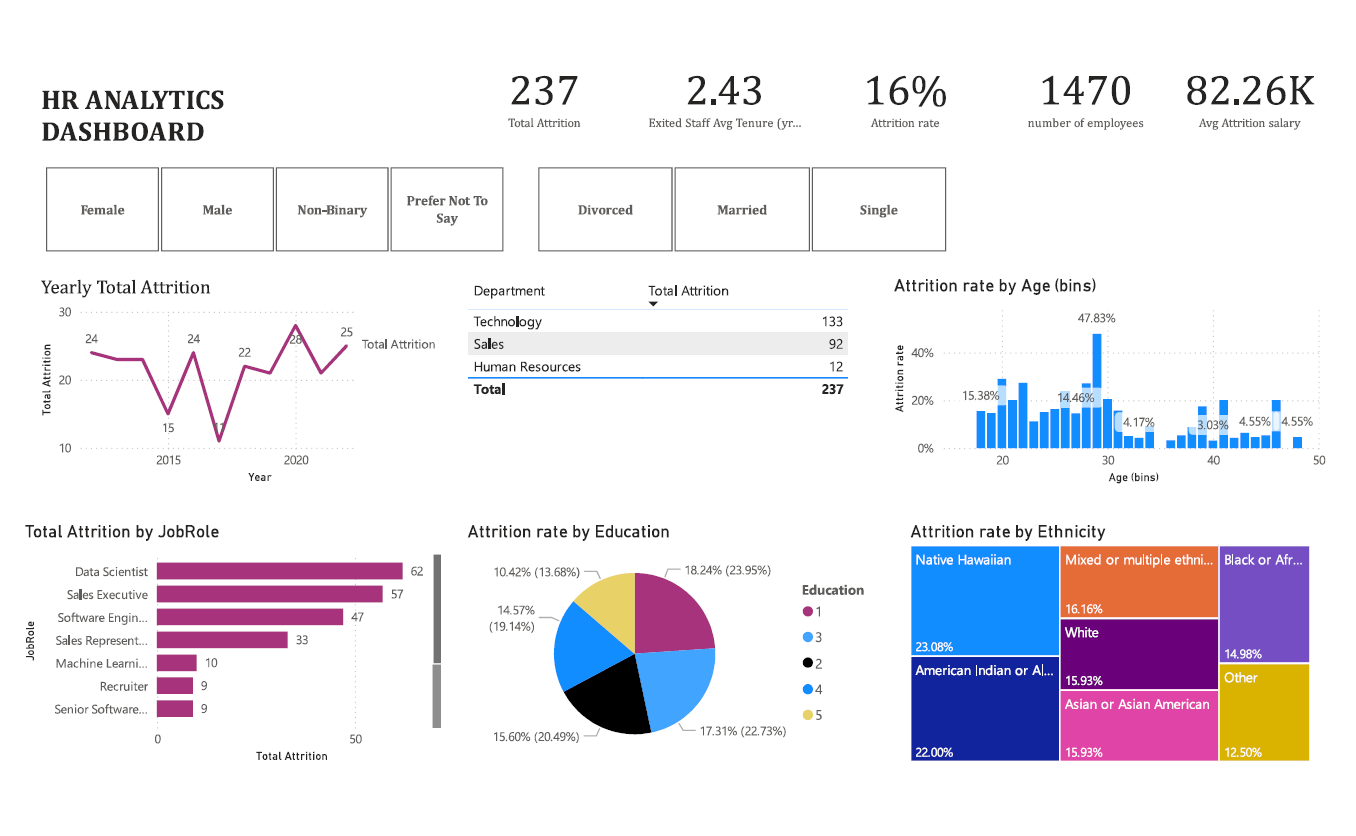

The page's visual inventory and layout, read from the dashboard file:
{"tool":"powerbi","page":{"name":"Page 1","canvas":[1280,720],"ordinal":0},"visuals":[{"type":"card","fields":{"Values":["Employee.number of employees"]},"box":[960,0,160,128],"z":1000},{"type":"card","fields":{"Values":["Employee.Total Attrition"]},"box":[432,0,160,128],"z":2000},{"type":"clusteredBarChart","fields":{"Category":["Employee.JobRole"],"Y":["Employee.Total Attrition"]},"box":[0,480,416,240],"z":3000},{"type":"card","fields":{"Values":["Employee.Attrition rate"]},"box":[784,0,160,128],"z":4000},{"type":"card","fields":{"Values":["Employee.Avg Tenure (Exited Staff)"]},"box":[608,0,160,128],"z":5000},{"type":"card","fields":{"Values":["Employee.Avg Attrition salary"]},"box":[1120,0,160,128],"z":6000},{"type":"slicer","fields":{"Values":["Employee.MaritalStatus"]},"box":[480,128,448,96],"z":7000},{"type":"slicer","fields":{"Values":["Employee.Gender"]},"box":[0,128,496,96],"z":8000},{"type":"tableEx","fields":{"Values":["Employee.Department","Employee.Total Attrition"]},"box":[432,240,400,208],"z":9000},{"type":"pieChart","fields":{"Category":["Employee.Education"],"Y":["Employee.Attrition rate"]},"box":[432,480,416,240],"z":10000},{"type":"textbox","box":[16,48,352,80],"z":11000},{"type":"lineChart","title":"Yearly Total Attrition","fields":{"Category":["Employee.HireDate.Variation.Date Hierarchy.Year"],"Y":["Employee.Total Attrition"]},"box":[16,240,400,208],"z":13000},{"type":"lineStackedColumnComboChart","fields":{"Category":["Employee.Age (bins)"],"Y":["Employee.Attrition rate"]},"box":[848,240,432,208],"z":14000},{"type":"treemap","fields":{"Group":["Employee.Ethnicity"],"Values":["Employee.Attrition rate"]},"box":[864,480,400,240],"z":15000}]}

Visuals, with their boxes on the page's 1280x720 design canvas (x1, y1, x2, y2). These are canvas units, not pixel positions in the 1356x836 screenshot, which may show the page scaled, cropped or inside an application window:
card - Employee.number of employees: [x1=960, y1=0, x2=1120, y2=128]
card - Employee.Total Attrition: [x1=432, y1=0, x2=592, y2=128]
clusteredBarChart - Employee.JobRole x Employee.Total Attrition: [x1=0, y1=480, x2=416, y2=720]
card - Employee.Attrition rate: [x1=784, y1=0, x2=944, y2=128]
card - Employee.Avg Tenure (Exited Staff): [x1=608, y1=0, x2=768, y2=128]
card - Employee.Avg Attrition salary: [x1=1120, y1=0, x2=1280, y2=128]
slicer - Employee.MaritalStatus: [x1=480, y1=128, x2=928, y2=224]
slicer - Employee.Gender: [x1=0, y1=128, x2=496, y2=224]
tableEx - Employee.Department x Employee.Total Attrition: [x1=432, y1=240, x2=832, y2=448]
pieChart - Employee.Education x Employee.Attrition rate: [x1=432, y1=480, x2=848, y2=720]
textbox: [x1=16, y1=48, x2=368, y2=128]
"Yearly Total Attrition" lineChart: [x1=16, y1=240, x2=416, y2=448]
lineStackedColumnComboChart - Employee.Age (bins) x Employee.Attrition rate: [x1=848, y1=240, x2=1280, y2=448]
treemap - Employee.Ethnicity x Employee.Attrition rate: [x1=864, y1=480, x2=1264, y2=720]
